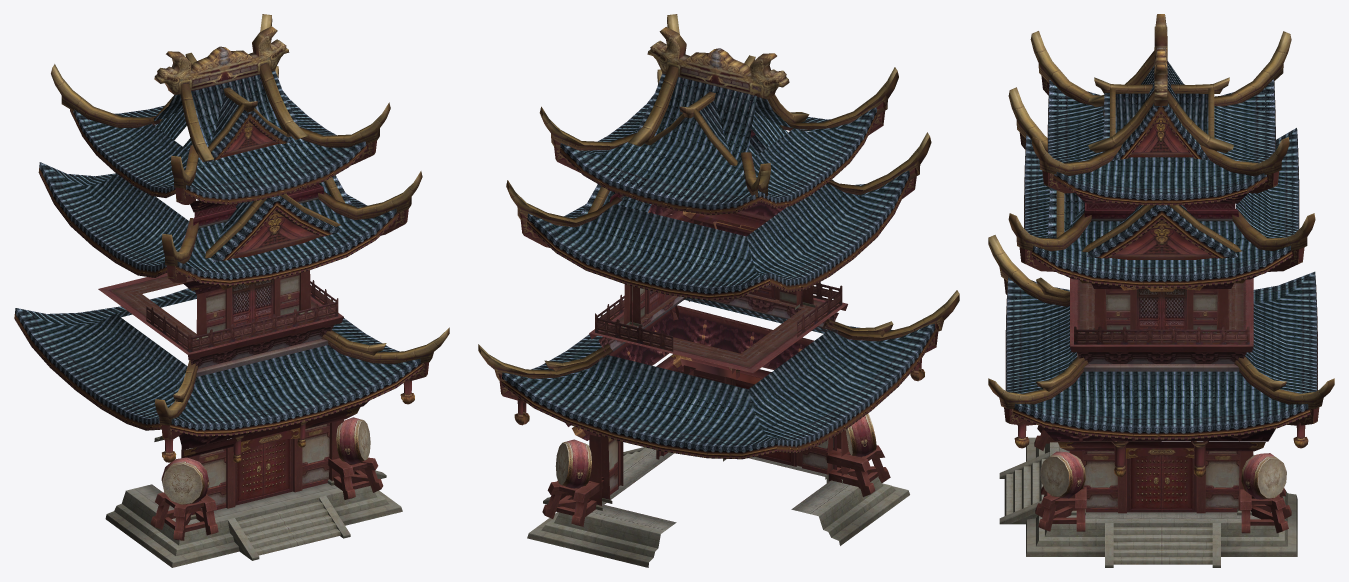
The model's file is cj_luoyang_talou01_53_46_6832out.fbx.
3 views of the same model, side by side, from view 1: azimuth 30°, elevation 25°; view 2: azimuth 150°, elevation 25°; view 3: azimuth 270°, elevation 25° (orthographic). The views are drawn at different scales.
Visible parts, largest first — view 1: 0001_cj_luoyang_talou01, 0002_cj_luoyang_talou01, 0000_cj_luoyang_talou01; view 2: 0001_cj_luoyang_talou01, 0002_cj_luoyang_talou01, 0000_cj_luoyang_talou01; view 3: 0001_cj_luoyang_talou01, 0002_cj_luoyang_talou01, 0000_cj_luoyang_talou01.
Boxes of the visible parts, bbox=[...] form: 0001_cj_luoyang_talou01: bbox=[14, 70, 422, 450]; 0002_cj_luoyang_talou01: bbox=[51, 14, 449, 555]; 0000_cj_luoyang_talou01: bbox=[98, 183, 402, 567]; 0001_cj_luoyang_talou01: bbox=[501, 73, 935, 459]; 0002_cj_luoyang_talou01: bbox=[478, 14, 959, 526]; 0000_cj_luoyang_talou01: bbox=[527, 192, 909, 567]; 0001_cj_luoyang_talou01: bbox=[1005, 61, 1317, 441]; 0002_cj_luoyang_talou01: bbox=[988, 14, 1334, 564]; 0000_cj_luoyang_talou01: bbox=[999, 202, 1297, 567].
Size of the model in its own units: 10.17 by 14.89 by 10.17.
